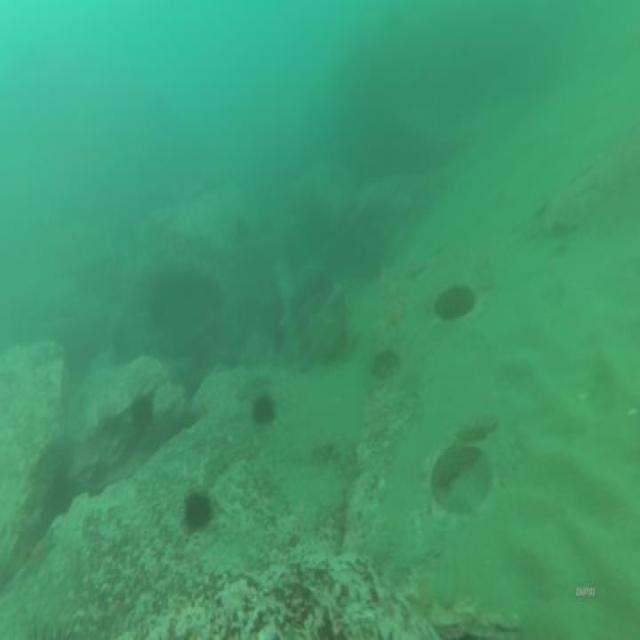echinus: (182, 483, 214, 539), (248, 386, 280, 433), (131, 387, 153, 436)
